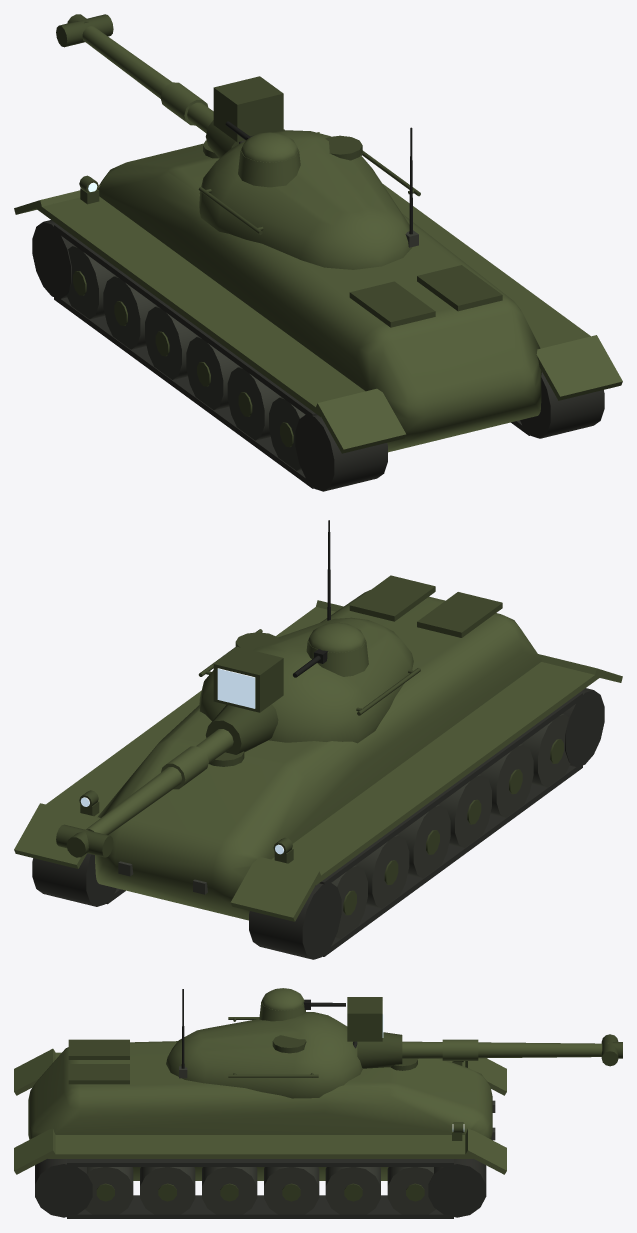
The model's file is m48-patton.glb.
3 views of the same model, one above another, from view 1: azimuth 30°, elevation 25°; view 2: azimuth 150°, elevation 25°; view 3: azimuth 270°, elevation 25° (orthographic). The views are drawn at different scales.
Visible parts, largest first — view 1: Mesh_Hull, Mesh_Turret, Mesh_FenderL, Mesh_FenderR, Mesh_SprocketL, Mesh_FenderLipBL, Mesh_FenderLipBR, Mesh_Searchlight, Mesh_SprocketR, Mesh_TrackBottomL, Mesh_Barrel, Mesh_TrackTopL (+14 smaller); view 2: Mesh_Hull, Mesh_FenderL, Mesh_Turret, Mesh_FenderR, Mesh_IdlerL, Mesh_FenderLipFL, Mesh_FenderLipFR, Mesh_Barrel, Mesh_IdlerR, Mesh_TrackBottomL, Mesh_Searchlight, Mesh_TrackTopL (+16 smaller); view 3: Mesh_Hull, Mesh_Turret, Mesh_FenderR, Mesh_TrackBottomR, Mesh_TrackTopR, Mesh_IdlerR, Mesh_SprocketR, Mesh_Barrel, Mesh_RoadWheel_R3, Mesh_RoadWheel_R4, Mesh_RoadWheel_R2, Mesh_RoadWheel_R1 (+16 smaller).
Part boxes in pixels (box(x1,y1,x2,y2)): Mesh_Hull: box(98, 143, 541, 452); Mesh_Turret: box(199, 130, 412, 269); Mesh_FenderL: box(36, 196, 365, 416); Mesh_FenderR: box(383, 184, 590, 348); Mesh_SprocketL: box(295, 414, 387, 491); Mesh_FenderLipBL: box(316, 388, 406, 453); Mesh_FenderLipBR: box(536, 335, 622, 400); Mesh_Searchlight: box(213, 76, 283, 142); Mesh_SprocketR: box(520, 372, 604, 438); Mesh_TrackBottomL: box(54, 294, 313, 488); Mesh_Barrel: box(82, 26, 213, 133); Mesh_TrackTopL: box(54, 224, 317, 419); Mesh_Hull: box(95, 590, 541, 920); Mesh_FenderL: box(271, 662, 600, 885); Mesh_Turret: box(199, 617, 413, 743); Mesh_FenderR: box(46, 607, 335, 816); Mesh_IdlerL: box(249, 882, 341, 959); Mesh_FenderLipFL: box(230, 856, 320, 921); Mesh_FenderLipFR: box(14, 803, 100, 868); Mesh_Barrel: box(86, 729, 233, 834); Mesh_IdlerR: box(32, 853, 116, 906); Mesh_TrackBottomL: box(323, 762, 582, 956); Mesh_Searchlight: box(213, 646, 283, 712); Mesh_TrackTopL: box(319, 692, 582, 885); Mesh_Hull: box(28, 1041, 492, 1180); Mesh_Turret: box(166, 1012, 362, 1098); Mesh_FenderR: box(47, 1135, 473, 1158); Mesh_TrackBottomR: box(67, 1195, 453, 1218); Mesh_TrackTopR: box(67, 1159, 453, 1166); Mesh_IdlerR: box(428, 1159, 486, 1217); Mesh_SprocketR: box(35, 1159, 92, 1217); Mesh_Barrel: box(402, 1041, 602, 1058); Mesh_RoadWheel_R3: box(264, 1167, 319, 1214); Mesh_RoadWheel_R4: box(325, 1167, 380, 1214); Mesh_RoadWheel_R2: box(202, 1167, 257, 1214); Mesh_RoadWheel_R1: box(140, 1167, 195, 1214).
Bounding box in the file's own units: 3.74 × 3.34 × 9.44.
